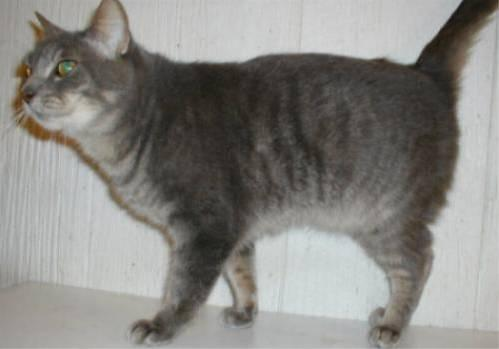cat: (14, 0, 498, 346)
